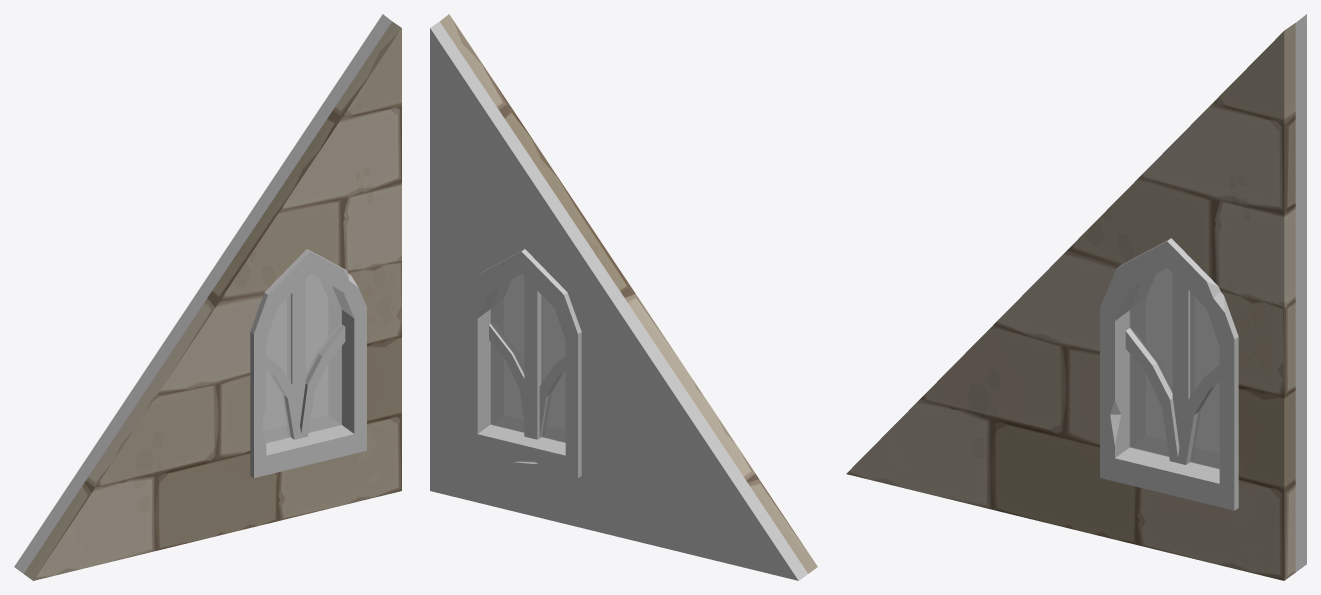
Rendered from SM_Bld_Wall_End_Straight_Small_Window_01.fbx.
3 renders of one model, left to right at view 1: azimuth 30°, elevation 25°; view 2: azimuth 150°, elevation 25°; view 3: azimuth 330°, elevation 25°, orthographic. The views are drawn at different scales.
Visible parts, largest first — view 1: SM_Bld_Wall_End_Straight_Small_Window_01, SM_Bld_Wall_End_Straight_Small_Window_01_Glass; view 2: SM_Bld_Wall_End_Straight_Small_Window_01, SM_Bld_Wall_End_Straight_Small_Window_01_Glass; view 3: SM_Bld_Wall_End_Straight_Small_Window_01, SM_Bld_Wall_End_Straight_Small_Window_01_Glass.
Boxes of the visible parts, x1=… form: SM_Bld_Wall_End_Straight_Small_Window_01: x1=14, y1=14, x2=401, y2=580; SM_Bld_Wall_End_Straight_Small_Window_01_Glass: x1=262, y1=274, x2=341, y2=443; SM_Bld_Wall_End_Straight_Small_Window_01: x1=430, y1=14, x2=817, y2=580; SM_Bld_Wall_End_Straight_Small_Window_01_Glass: x1=490, y1=274, x2=565, y2=442; SM_Bld_Wall_End_Straight_Small_Window_01: x1=846, y1=14, x2=1306, y2=580; SM_Bld_Wall_End_Straight_Small_Window_01_Glass: x1=1129, y1=268, x2=1219, y2=469.
Size of the model in its own units: 250 by 300 by 30.61.
